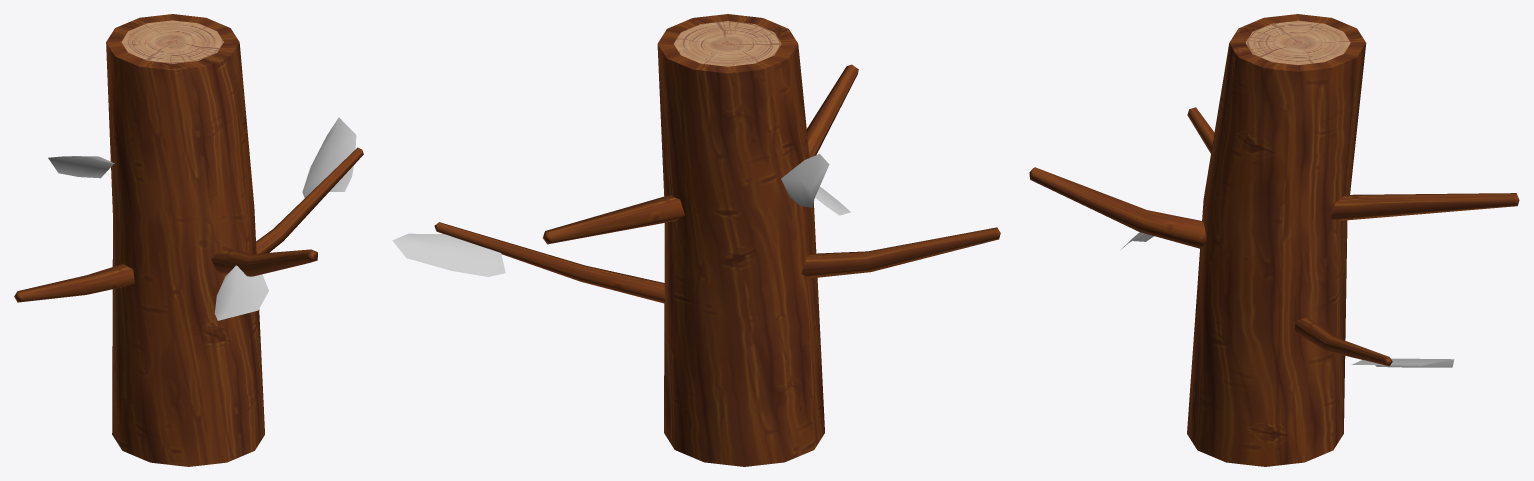
Rendered from obj_harvests_trees_spruce02_p03.fbx.
3 views of the same model, side by side, from view 1: azimuth 30°, elevation 25°; view 2: azimuth 150°, elevation 25°; view 3: azimuth 270°, elevation 25° (orthographic). The views are drawn at different scales.
Visible parts, largest first — view 1: obj_harvests_trees_spruce02_p03; view 2: obj_harvests_trees_spruce02_p03; view 3: obj_harvests_trees_spruce02_p03.
Boxes of the visible parts, x1,y1,x2,y2 form: obj_harvests_trees_spruce02_p03: [14, 14, 363, 466]; obj_harvests_trees_spruce02_p03: [392, 14, 1000, 466]; obj_harvests_trees_spruce02_p03: [1029, 14, 1519, 466].
Bounding box in the file's own units: 9.91 × 8 × 9.09.
